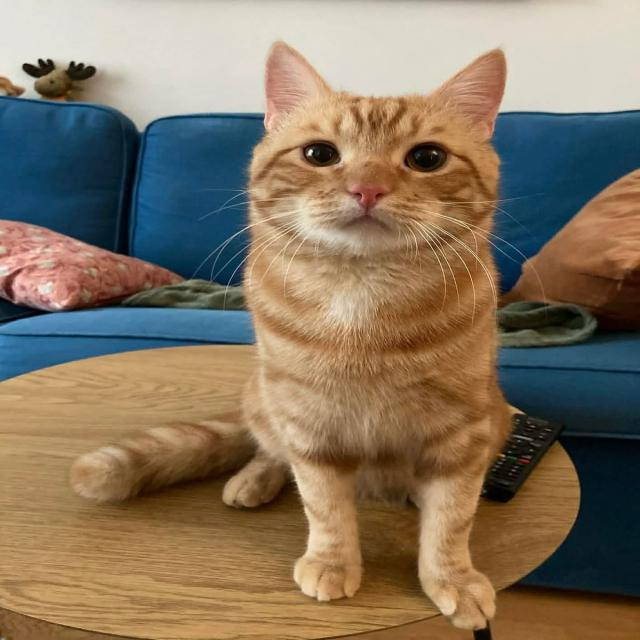sarman: (107, 23, 553, 640)
